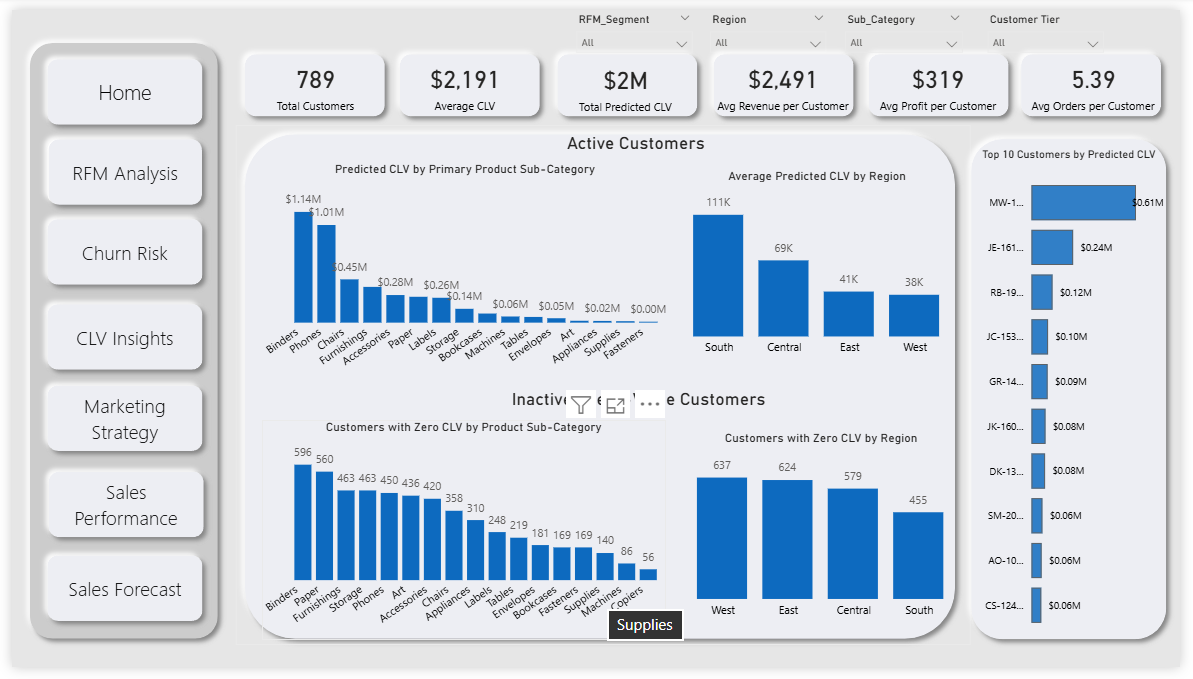

The dashboard page shown, as its layout file describes it:
{"tool":"powerbi","page":{"name":"CLV Insights","canvas":[1280,720],"ordinal":3},"visuals":[{"type":"group","id":"g1","title":"Group 13","box":[244.9,126.6,805.6,569],"z":0},{"type":"group","id":"g2","title":"Group 1","box":[244.9,126.6,801.4,569],"z":0,"group":"g1"},{"type":"textbox","box":[608.1,131.3,175.4,58.4],"z":0,"group":"g18"},{"type":"group","id":"g3","title":"Group 1","box":[1040.7,132.2,237.9,567.7],"z":0,"group":"g9"},{"type":"slicer","fields":{"Values":["Superstore 2025.Region"]},"box":[755.5,2.8,147.5,61.2],"z":1000},{"type":"group","id":"g4","title":"Group 3","box":[414.4,38.6,174,87.7],"z":1000,"group":"g5"},{"type":"textbox","box":[547.9,412.3,308.8,52.9],"z":1000,"group":"g18"},{"type":"group","id":"g5","title":"Group 14","box":[244.6,38.6,1024.1,87.7],"z":2000},{"type":"group","id":"g6","title":"Group 2","box":[244.6,38.6,174,87.7],"z":2000,"group":"g5"},{"type":"group","id":"g7","title":"Group 8","box":[273.4,450,442.3,240.7],"z":2000,"group":"g18"},{"type":"slicer","fields":{"Values":["vw_RFM_Segments.Customer Tier"]},"box":[1058.8,2.8,147.5,61.2],"z":3000},{"type":"clusteredBarChart","title":"Top 10 Customers by Predicted CLV","fields":{"Category":["vw_Customer_CLV.Customer_ID"],"Y":["Sum(vw_Customer_CLV.Predictive_CLV_1Year)"]},"box":[1051.8,151.7,215.7,541.2],"z":3000,"group":"g9"},{"type":"group","id":"g8","title":"Group 9","box":[720.7,462.5,329.8,209],"z":3000,"group":"g18"},{"type":"group","id":"g9","title":"Group 15","box":[1040.7,132.2,237.9,567.7],"z":4000},{"type":"group","id":"g10","title":"Group 10","box":[716.7,175.5,329.2,209],"z":4000,"group":"g18"},{"type":"slicer","fields":{"Values":["vw_RFM_Segments.RFM_Segment"]},"box":[608,2.8,147.5,64],"z":5000},{"type":"group","id":"g11","title":"Group 11","box":[274.7,168.6,442.3,240.7],"z":5000,"group":"g18"},{"type":"slicer","fields":{"Values":["Superstore 2025.Sub_Category"]},"box":[903,2.8,148.9,59.8],"z":6000},{"type":"group","id":"g12","title":"Group 10","box":[10.1,26.4,226,674],"z":7000},{"type":"group","id":"g13","title":"Group 1","box":[414.4,38.6,174,87.7],"z":8000,"group":"g4"},{"type":"group","id":"g14","title":"Group 4","box":[586.9,38.6,174,87.7],"z":8000,"group":"g5"},{"type":"card","fields":{"Values":["Avg(vw_Customer_CLV.Predictive_CLV_1Year)"]},"box":[425.1,46.9,140.9,72.3],"z":8500,"group":"g4"},{"type":"group","id":"g15","title":"Group 5","box":[758,38.6,174,87.7],"z":9000,"group":"g5"},{"type":"group","id":"g16","title":"Group 6","box":[927.7,38.6,174,87.7],"z":10000,"group":"g5"},{"type":"clusteredColumnChart","title":"Average Predicted CLV by Region","fields":{"Category":["Superstore 2025.Region"],"Y":["vw_Customer_CLV.Avg CLV by Region"]},"box":[716.7,175.5,329.2,209],"z":10000,"group":"g10"},{"type":"group","id":"g17","title":"Group 7","box":[1094.7,38.6,174,87.7],"z":11000,"group":"g5"},{"type":"clusteredColumnChart","title":"Customers with Zero CLV by Product Sub-Category","fields":{"Y":["CountNonNull(vw_Customer_CLV.Predictive_CLV_1Year)"],"Category":["Superstore 2025.Sub_Category"]},"box":[273.4,450,442.3,240.7],"z":12000,"group":"g7"},{"type":"group","id":"g18","title":"Group 12","box":[273.4,131.3,777.1,559.4],"z":13000,"group":"g1"},{"type":"clusteredColumnChart","title":"Customers with Zero CLV by Region","fields":{"Y":["CountNonNull(vw_Customer_CLV.Predictive_CLV_1Year)"],"Category":["Superstore 2025.Region"]},"box":[720.7,462.5,329.8,209],"z":13000,"group":"g8"},{"type":"clusteredColumnChart","title":"Predicted CLV by Primary Product Sub-Category","fields":{"Y":["Sum(vw_Customer_CLV.Predictive_CLV_1Year)"],"Category":["Superstore 2025.Sub_Category"]},"box":[274.7,168.6,442.3,240.7],"z":14000,"group":"g11"},{"type":"group","id":"g19","title":"Group 1","box":[10.1,26.4,226,674],"z":16000,"group":"g12"},{"type":"group","id":"g20","title":"Group 1","box":[30.2,496.8,190,92],"z":17000,"group":"g12"},{"type":"group","id":"g21","title":"Group 1","box":[29,587.4,190,92],"z":18000,"group":"g12"},{"type":"group","id":"g22","title":"Group 1","box":[244.6,38.6,174,87.7],"z":19000,"group":"g6"},{"type":"group","id":"g23","title":"Group 1","box":[29,401.9,190,92],"z":19000,"group":"g12"},{"type":"shape","box":[10.1,26.4,226,673],"z":19500,"group":"g19"},{"type":"shape","box":[244.6,38.6,173.3,88.2],"z":19500,"group":"g22"},{"type":"shape","box":[414.4,38.6,173.3,88.2],"z":19500,"group":"g13"},{"type":"shape","box":[586.9,38.6,173.3,88.2],"z":19500,"group":"g24"},{"type":"shape","box":[758,38.6,173.3,88.2],"z":19500,"group":"g26"},{"type":"shape","box":[927.7,38.6,173.3,88.2],"z":19500,"group":"g28"},{"type":"shape","box":[1094.7,38.6,173.3,88.2],"z":19500,"group":"g30"},{"type":"shape","box":[29,44.5,190,91.9],"z":19500,"group":"g31"},{"type":"card","fields":{"Values":["tbl_Measure.Customer Count"]},"box":[263,46.9,139.5,72.3],"z":19500,"group":"g6"},{"type":"shape","box":[244.9,126.6,798.3,573],"z":19500,"group":"g2"},{"type":"shape","box":[29,132,188.1,91.9],"z":19500,"group":"g29"},{"type":"shape","box":[1040.7,132.2,233.9,568.2],"z":19500,"group":"g3"},{"type":"shape","box":[29,219.6,190,91.9],"z":19500,"group":"g27"},{"type":"shape","box":[29,313.2,190,91.9],"z":19500,"group":"g25"},{"type":"shape","box":[29,401.9,190,91.9],"z":19500,"group":"g23"},{"type":"shape","box":[30.2,496.8,190,91.9],"z":19500,"group":"g20"},{"type":"shape","box":[29,587.4,190,91.9],"z":19500,"group":"g21"},{"type":"shape","box":[10.1,26.4,226,673],"z":20000,"group":"g19"},{"type":"shape","box":[244.6,38.6,173.3,88.2],"z":20000,"group":"g22"},{"type":"shape","box":[414.4,38.6,173.3,88.2],"z":20000,"group":"g13"},{"type":"group","id":"g24","title":"Group 1","box":[586.9,38.6,174,87.7],"z":20000,"group":"g14"},{"type":"shape","box":[586.9,38.6,173.3,88.2],"z":20000,"group":"g24"},{"type":"shape","box":[758,38.6,173.3,88.2],"z":20000,"group":"g26"},{"type":"shape","box":[927.7,38.6,173.3,88.2],"z":20000,"group":"g28"},{"type":"shape","box":[1094.7,38.6,173.3,88.2],"z":20000,"group":"g30"},{"type":"shape","box":[29,44.5,190,91.9],"z":20000,"group":"g31"},{"type":"shape","box":[244.9,126.6,798.3,573],"z":20000,"group":"g2"},{"type":"shape","box":[30.9,132,188.1,92],"z":20000,"group":"g29"},{"type":"shape","box":[1040.7,132.2,233.9,568.2],"z":20000,"group":"g3"},{"type":"shape","box":[29,219.6,190,91.9],"z":20000,"group":"g27"},{"type":"group","id":"g25","title":"Group 1","box":[29,313.2,190,92],"z":20000,"group":"g12"},{"type":"shape","box":[29,313.2,190,91.9],"z":20000,"group":"g25"},{"type":"shape","box":[29,401.9,190,91.9],"z":20000,"group":"g23"},{"type":"shape","box":[30.2,496.8,190,91.9],"z":20000,"group":"g20"},{"type":"shape","box":[29,587.4,190,91.9],"z":20000,"group":"g21"},{"type":"card","fields":{"Values":["Sum(vw_Customer_CLV.Predictive_CLV_1Year)"]},"box":[602.1,48.3,139.5,72.3],"z":20500,"group":"g14"},{"type":"group","id":"g26","title":"Group 1","box":[758,38.6,174,87.7],"z":21000,"group":"g15"},{"type":"group","id":"g27","title":"Group 1","box":[29,219.6,190,92],"z":21000,"group":"g12"},{"type":"card","fields":{"Values":["Avg(vw_Customer_CLV.TotalRevenue)"]},"box":[766.4,47.5,155.8,72.3],"z":21500,"group":"g15"},{"type":"group","id":"g28","title":"Group 1","box":[927.7,38.6,174,87.7],"z":22000,"group":"g16"},{"type":"group","id":"g29","title":"Group 1","box":[29,132,190,92],"z":22000,"group":"g12"},{"type":"card","fields":{"Values":["Avg(vw_Customer_CLV.TotalProfit)"]},"box":[944.3,46.9,139.5,72.3],"z":22500,"group":"g16"},{"type":"group","id":"g30","title":"Group 1","box":[1094.7,38.6,174,87.7],"z":23000,"group":"g17"},{"type":"group","id":"g31","title":"Group 1","box":[29,44.5,190,92],"z":23000,"group":"g12"},{"type":"card","fields":{"Values":["Avg(vw_Customer_CLV.TotalOrders)"]},"box":[1109.9,48.3,147.8,71],"z":23500,"group":"g17"}]}

Visuals, with their boxes in screenshot pixels (x1, y1, x2, y2), scaled from the page's 1280x720 canvas onto the 1193x679 screenshot:
"Group 13" group: <box>228,119,979,656</box>
"Group 1" group: <box>228,119,975,656</box>
textbox: <box>567,124,730,179</box>
"Group 1" group: <box>970,125,1192,660</box>
slicer - Superstore 2025.Region: <box>704,3,842,60</box>
"Group 3" group: <box>386,36,548,119</box>
textbox: <box>511,389,798,439</box>
"Group 14" group: <box>228,36,1182,119</box>
"Group 2" group: <box>228,36,390,119</box>
"Group 8" group: <box>255,424,667,651</box>
slicer - vw_RFM_Segments.Customer Tier: <box>987,3,1124,60</box>
"Top 10 Customers by Predicted CLV" clusteredBarChart: <box>980,143,1181,653</box>
"Group 9" group: <box>672,436,979,633</box>
"Group 15" group: <box>970,125,1192,660</box>
"Group 10" group: <box>668,166,975,363</box>
slicer - vw_RFM_Segments.RFM_Segment: <box>567,3,704,63</box>
"Group 11" group: <box>256,159,668,386</box>
slicer - Superstore 2025.Sub_Category: <box>842,3,980,59</box>
"Group 10" group: <box>9,25,220,661</box>
"Group 1" group: <box>386,36,548,119</box>
"Group 4" group: <box>547,36,709,119</box>
card - Avg(vw_Customer_CLV.Predictive_CLV_1Year): <box>396,44,528,112</box>
"Group 5" group: <box>706,36,869,119</box>
"Group 6" group: <box>865,36,1027,119</box>
"Average Predicted CLV by Region" clusteredColumnChart: <box>668,166,975,363</box>
"Group 7" group: <box>1020,36,1182,119</box>
"Customers with Zero CLV by Product Sub-Category" clusteredColumnChart: <box>255,424,667,651</box>
"Group 12" group: <box>255,124,979,651</box>
"Customers with Zero CLV by Region" clusteredColumnChart: <box>672,436,979,633</box>
"Predicted CLV by Primary Product Sub-Category" clusteredColumnChart: <box>256,159,668,386</box>
"Group 1" group: <box>9,25,220,661</box>
"Group 1" group: <box>28,469,205,555</box>
"Group 1" group: <box>27,554,204,641</box>
"Group 1" group: <box>228,36,390,119</box>
"Group 1" group: <box>27,379,204,466</box>
shape: <box>9,25,220,660</box>
shape: <box>228,36,389,120</box>
shape: <box>386,36,548,120</box>
shape: <box>547,36,709,120</box>
shape: <box>706,36,868,120</box>
shape: <box>865,36,1026,120</box>
shape: <box>1020,36,1182,120</box>
shape: <box>27,42,204,129</box>
card - tbl_Measure.Customer Count: <box>245,44,375,112</box>
shape: <box>228,119,972,660</box>
shape: <box>27,124,202,211</box>
shape: <box>970,125,1188,661</box>
shape: <box>27,207,204,294</box>
shape: <box>27,295,204,382</box>
shape: <box>27,379,204,466</box>
shape: <box>28,469,205,555</box>
shape: <box>27,554,204,641</box>
shape: <box>9,25,220,660</box>
shape: <box>228,36,389,120</box>
shape: <box>386,36,548,120</box>
"Group 1" group: <box>547,36,709,119</box>
shape: <box>547,36,709,120</box>
shape: <box>706,36,868,120</box>
shape: <box>865,36,1026,120</box>
shape: <box>1020,36,1182,120</box>
shape: <box>27,42,204,129</box>
shape: <box>228,119,972,660</box>
shape: <box>29,124,204,211</box>
shape: <box>970,125,1188,661</box>
shape: <box>27,207,204,294</box>
"Group 1" group: <box>27,295,204,382</box>
shape: <box>27,295,204,382</box>
shape: <box>27,379,204,466</box>
shape: <box>28,469,205,555</box>
shape: <box>27,554,204,641</box>
card - Sum(vw_Customer_CLV.Predictive_CLV_1Year): <box>561,46,691,114</box>
"Group 1" group: <box>706,36,869,119</box>
"Group 1" group: <box>27,207,204,294</box>
card - Avg(vw_Customer_CLV.TotalRevenue): <box>714,45,860,113</box>
"Group 1" group: <box>865,36,1027,119</box>
"Group 1" group: <box>27,124,204,211</box>
card - Avg(vw_Customer_CLV.TotalProfit): <box>880,44,1010,112</box>
"Group 1" group: <box>1020,36,1182,119</box>
"Group 1" group: <box>27,42,204,129</box>
card - Avg(vw_Customer_CLV.TotalOrders): <box>1034,46,1172,113</box>
